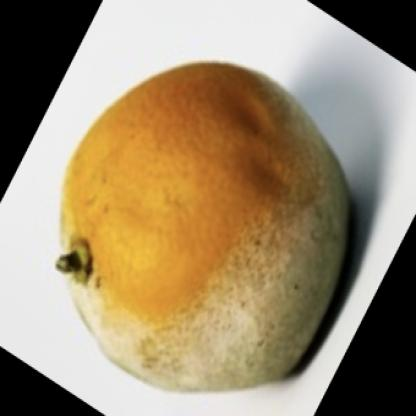rotten: (62, 59, 350, 396)
